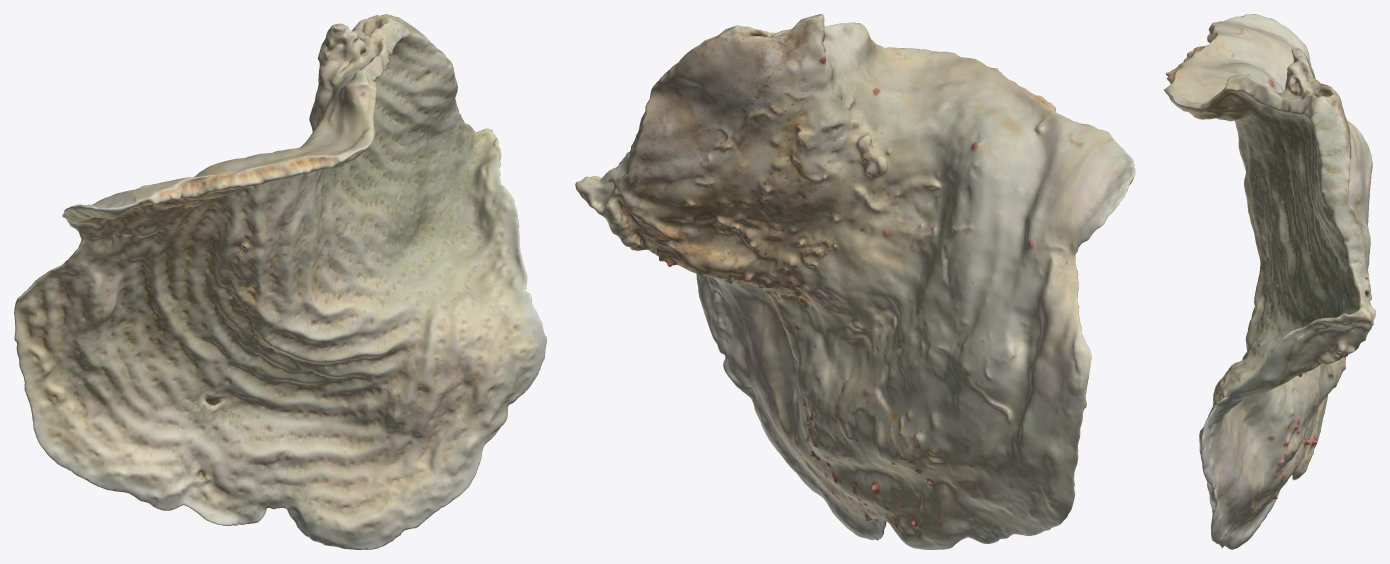
The model's file is smithsonian-agaricia-lamarcki.glb.
3 renders of one model, left to right at view 1: azimuth 30°, elevation 25°; view 2: azimuth 150°, elevation 25°; view 3: azimuth 270°, elevation 25°, orthographic. The views are drawn at different scales.
Size of the model in its own units: 0.1444 by 0.1449 by 0.0559.
Materials: 1 (1 with a texture image).
